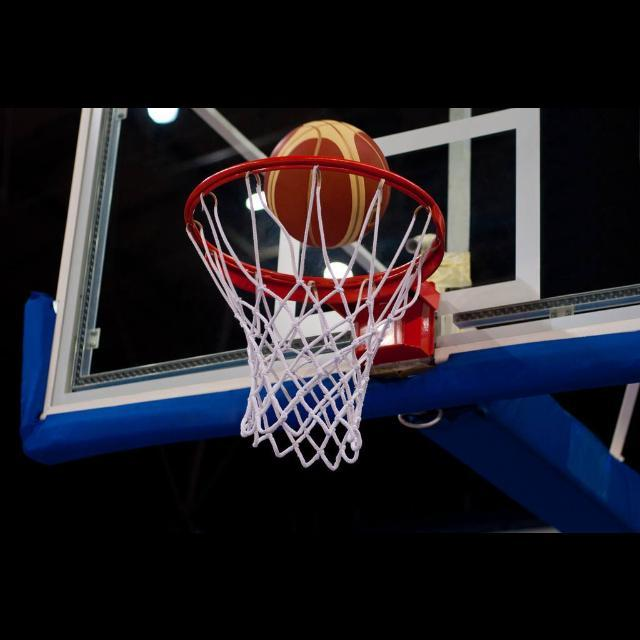basketball: (264, 120, 390, 246)
rim: (186, 156, 444, 472)
